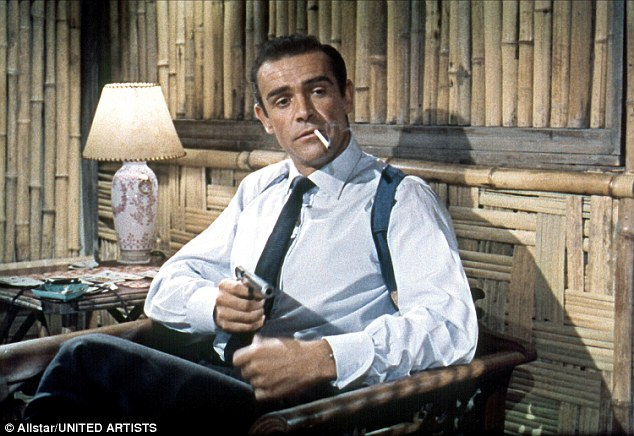cigarette: (310, 126, 333, 149)
